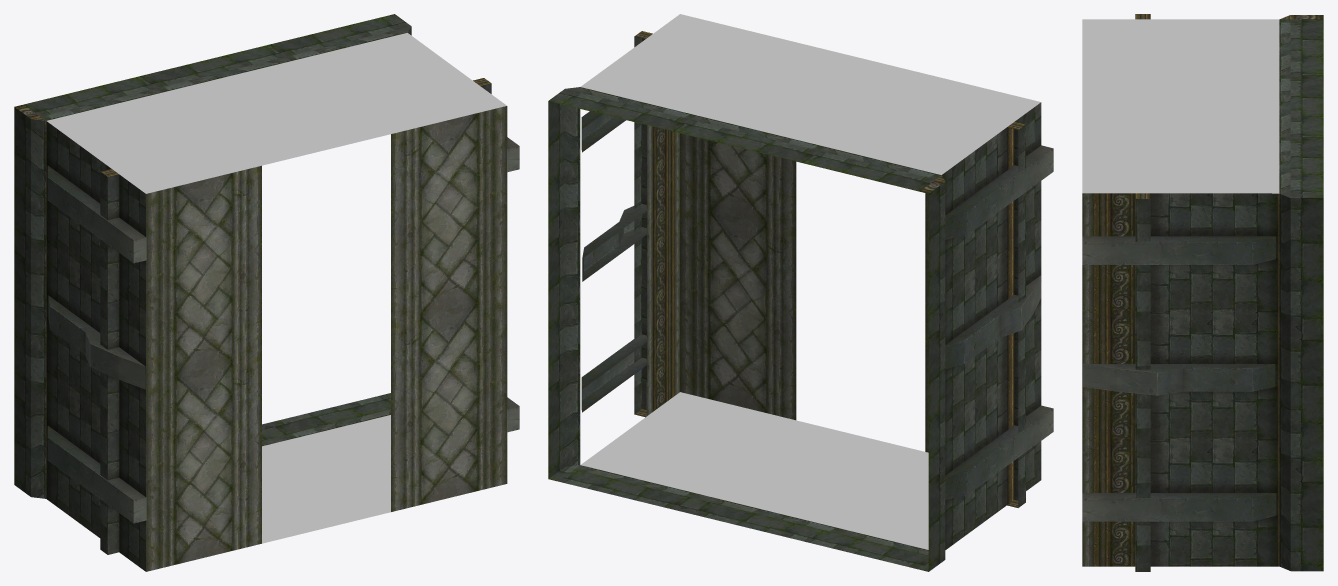
Rendered from zhanchan_fuben_367_chengqiang.obj.
The picture shows the model from 3 angles, left to right: view 1: azimuth 30°, elevation 25°; view 2: azimuth 150°, elevation 25°; view 3: azimuth 270°, elevation 25°; orthographic projection.
Parts seen in each view (by area): view 1: zhanchan_fuben_367_chengqiang; view 2: zhanchan_fuben_367_chengqiang; view 3: zhanchan_fuben_367_chengqiang.
Part boxes in pixels (<box>): zhanchan_fuben_367_chengqiang: <box>14,14,519,571</box>; zhanchan_fuben_367_chengqiang: <box>548,14,1053,571</box>; zhanchan_fuben_367_chengqiang: <box>1082,14,1323,571</box>.
Size of the model in its own units: 563 by 512 by 300.
